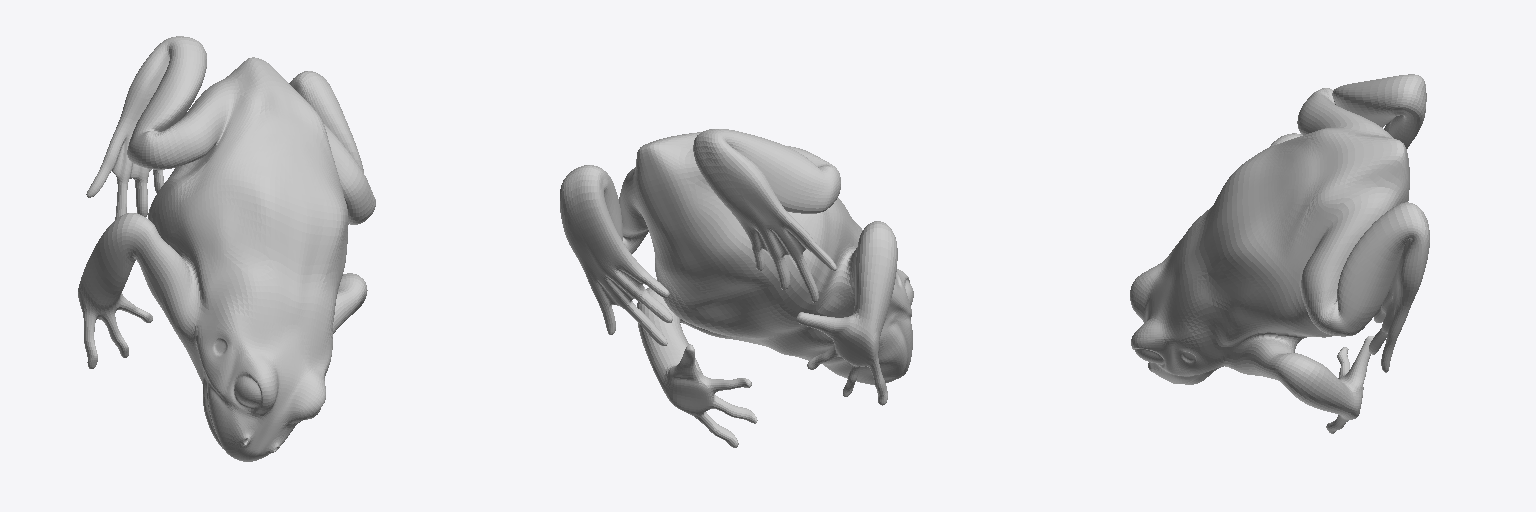
Rendered from frog_1.obj.
The picture shows the model from 3 angles: view 1: azimuth 30°, elevation 25°; view 2: azimuth 150°, elevation 25°; view 3: azimuth 270°, elevation 25°; orthographic projection.
Size of the model in its own units: 0.6402 by 0.741 by 0.5791.